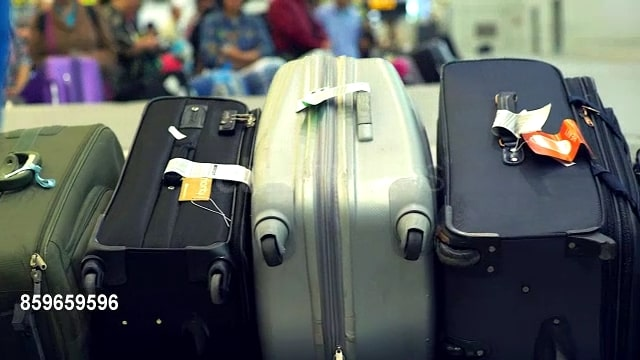baggage: (429, 55, 640, 360), (250, 51, 442, 360), (88, 85, 253, 360)
